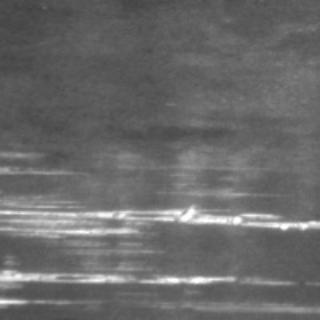scratches: (2, 190, 318, 240), (0, 264, 288, 308)
